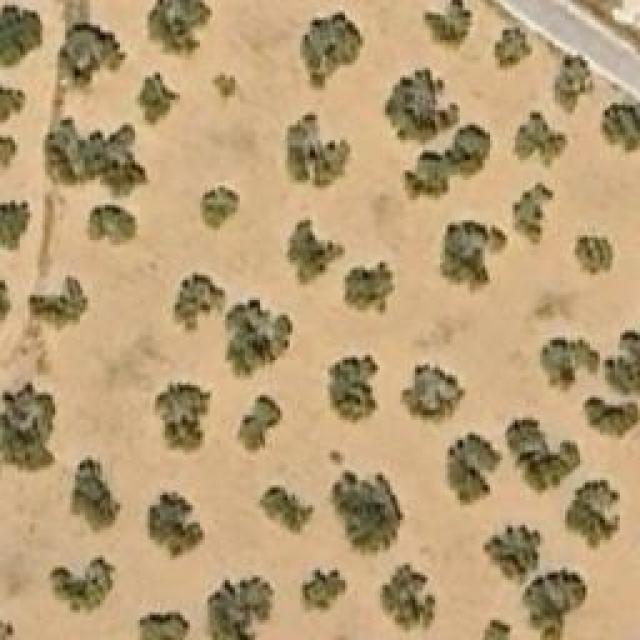Tree: (45, 120, 148, 195), (505, 418, 580, 493), (333, 473, 403, 553), (225, 300, 293, 380), (0, 383, 58, 476), (385, 68, 458, 141), (288, 115, 353, 193), (440, 220, 508, 293), (300, 13, 363, 88), (203, 575, 273, 640), (523, 570, 588, 640), (57, 23, 125, 88), (145, 493, 205, 566), (377, 563, 435, 636), (403, 365, 468, 428), (285, 220, 345, 288), (70, 458, 123, 533), (148, 0, 213, 60), (448, 433, 503, 503), (565, 480, 620, 550), (50, 557, 115, 615), (155, 383, 210, 448), (485, 523, 543, 583), (173, 273, 226, 336), (328, 355, 378, 420), (30, 275, 90, 328), (515, 110, 568, 168), (238, 395, 291, 453), (542, 337, 600, 385), (257, 487, 315, 535), (345, 260, 395, 315), (513, 183, 556, 246), (423, 0, 473, 50), (0, 5, 40, 65), (582, 398, 640, 438), (555, 53, 593, 113), (138, 73, 181, 126), (400, 150, 445, 198), (303, 568, 348, 613), (448, 125, 491, 170), (600, 102, 640, 150), (610, 330, 640, 393), (200, 188, 240, 233), (573, 235, 613, 278), (495, 28, 533, 73), (0, 200, 30, 255), (138, 610, 193, 640), (93, 205, 136, 235), (0, 85, 25, 125), (480, 617, 517, 640), (212, 72, 240, 100)
